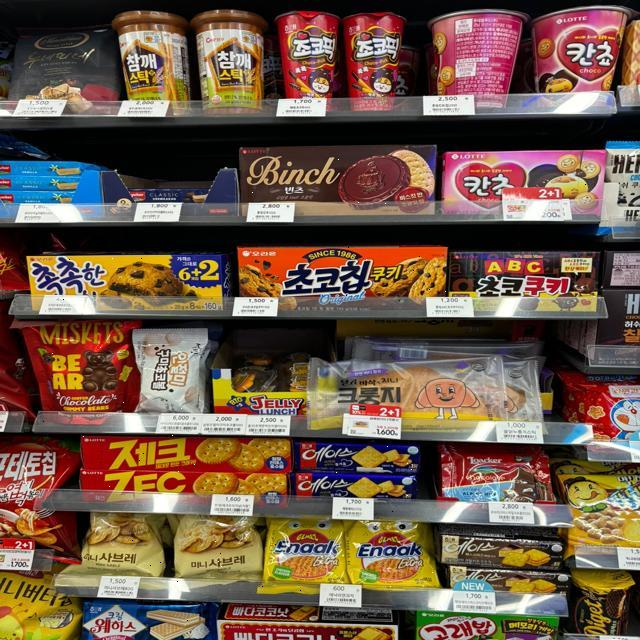product: (237, 242, 448, 302), (241, 145, 437, 206), (26, 318, 134, 423), (22, 255, 226, 307), (82, 471, 291, 518), (79, 432, 288, 473), (449, 153, 605, 203), (177, 509, 266, 589), (453, 252, 598, 301), (348, 517, 437, 595), (73, 507, 164, 580), (265, 513, 347, 593), (136, 329, 207, 413), (298, 472, 413, 514), (82, 606, 205, 640), (298, 438, 418, 472)
